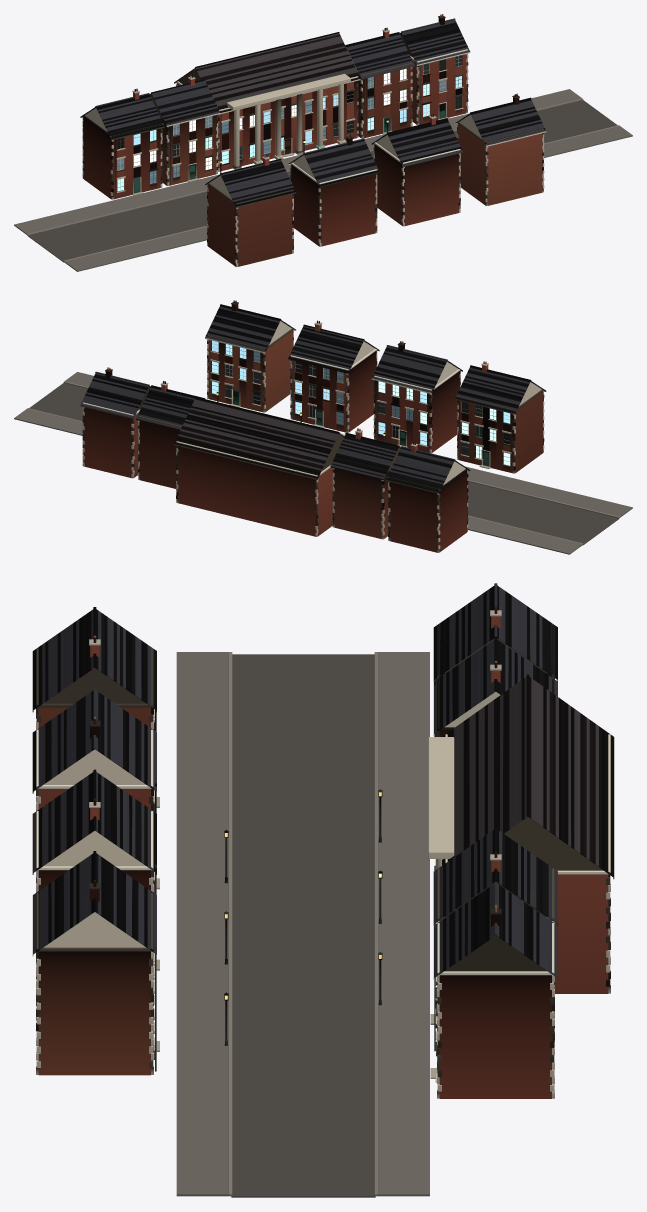
The model's file is museum.glb.
The picture shows the model from 3 angles, top to bottom: view 1: azimuth 30°, elevation 25°; view 2: azimuth 150°, elevation 25°; view 3: azimuth 270°, elevation 25°; orthographic projection. The views are drawn at different scales.
Parts seen in each view (by area): view 1: museum.roof.22, museum.brick.21, museum.cobble.0, museum.brick.27, museum.brick.26, museum.brick.28, museum.pave.1, museum.roof.14, museum.brick.11, museum.stone.18, museum.stone.12, museum.paint.19 (+9 smaller); view 2: museum.roof.22, museum.brick.11, museum.brick.21, museum.roof.14, museum.brick.26, museum.brick.28, museum.brick.27, museum.cobble.0, museum.pave.1, museum.stone.12, museum.paint.19, museum.glass.6 (+7 smaller); view 3: museum.cobble.0, museum.pave.1, museum.roof.22, museum.roof.14, museum.brick.28, museum.brick.26, museum.plaster.16, museum.brick.11, museum.stone.2, museum.paint.19, museum.stone.18, museum.stone.12 (+2 smaller).
Boxes of the visible parts, x1,y1,x2,y2 form: museum.roof.22: [80, 18, 545, 206]; museum.brick.21: [83, 117, 376, 246]; museum.cobble.0: [28, 100, 617, 262]; museum.brick.27: [207, 67, 411, 266]; museum.brick.26: [162, 115, 542, 205]; museum.brick.28: [374, 54, 466, 225]; museum.pave.1: [14, 89, 632, 271]; museum.roof.14: [174, 32, 360, 112]; museum.brick.11: [177, 81, 357, 171]; museum.stone.18: [227, 73, 350, 169]; museum.stone.12: [82, 53, 544, 266]; museum.paint.19: [83, 49, 543, 204]; museum.roof.22: [80, 304, 545, 492]; museum.brick.11: [177, 446, 332, 536]; museum.brick.21: [375, 371, 467, 552]; museum.roof.14: [174, 397, 345, 478]; museum.brick.26: [208, 330, 388, 538]; museum.brick.28: [83, 350, 376, 477]; museum.brick.27: [139, 391, 543, 488]; museum.cobble.0: [29, 383, 619, 545]; museum.pave.1: [14, 372, 632, 554]; museum.stone.12: [82, 330, 544, 552]; museum.paint.19: [82, 328, 543, 490]; museum.glass.6: [226, 351, 510, 455]; museum.cobble.0: [231, 654, 375, 1197]; museum.pave.1: [176, 652, 429, 1196]; museum.roof.22: [33, 583, 557, 977]; museum.roof.14: [442, 674, 613, 877]; museum.brick.28: [38, 870, 554, 1098]; museum.brick.26: [38, 731, 448, 1075]; museum.plaster.16: [43, 638, 603, 971]; museum.brick.11: [555, 874, 610, 993]; museum.stone.2: [228, 652, 378, 1196]; museum.paint.19: [36, 624, 554, 975]; museum.stone.18: [428, 737, 454, 870]; museum.stone.12: [36, 677, 610, 1098].
Size of the model in its own units: 80 by 12.55 by 36.25.
